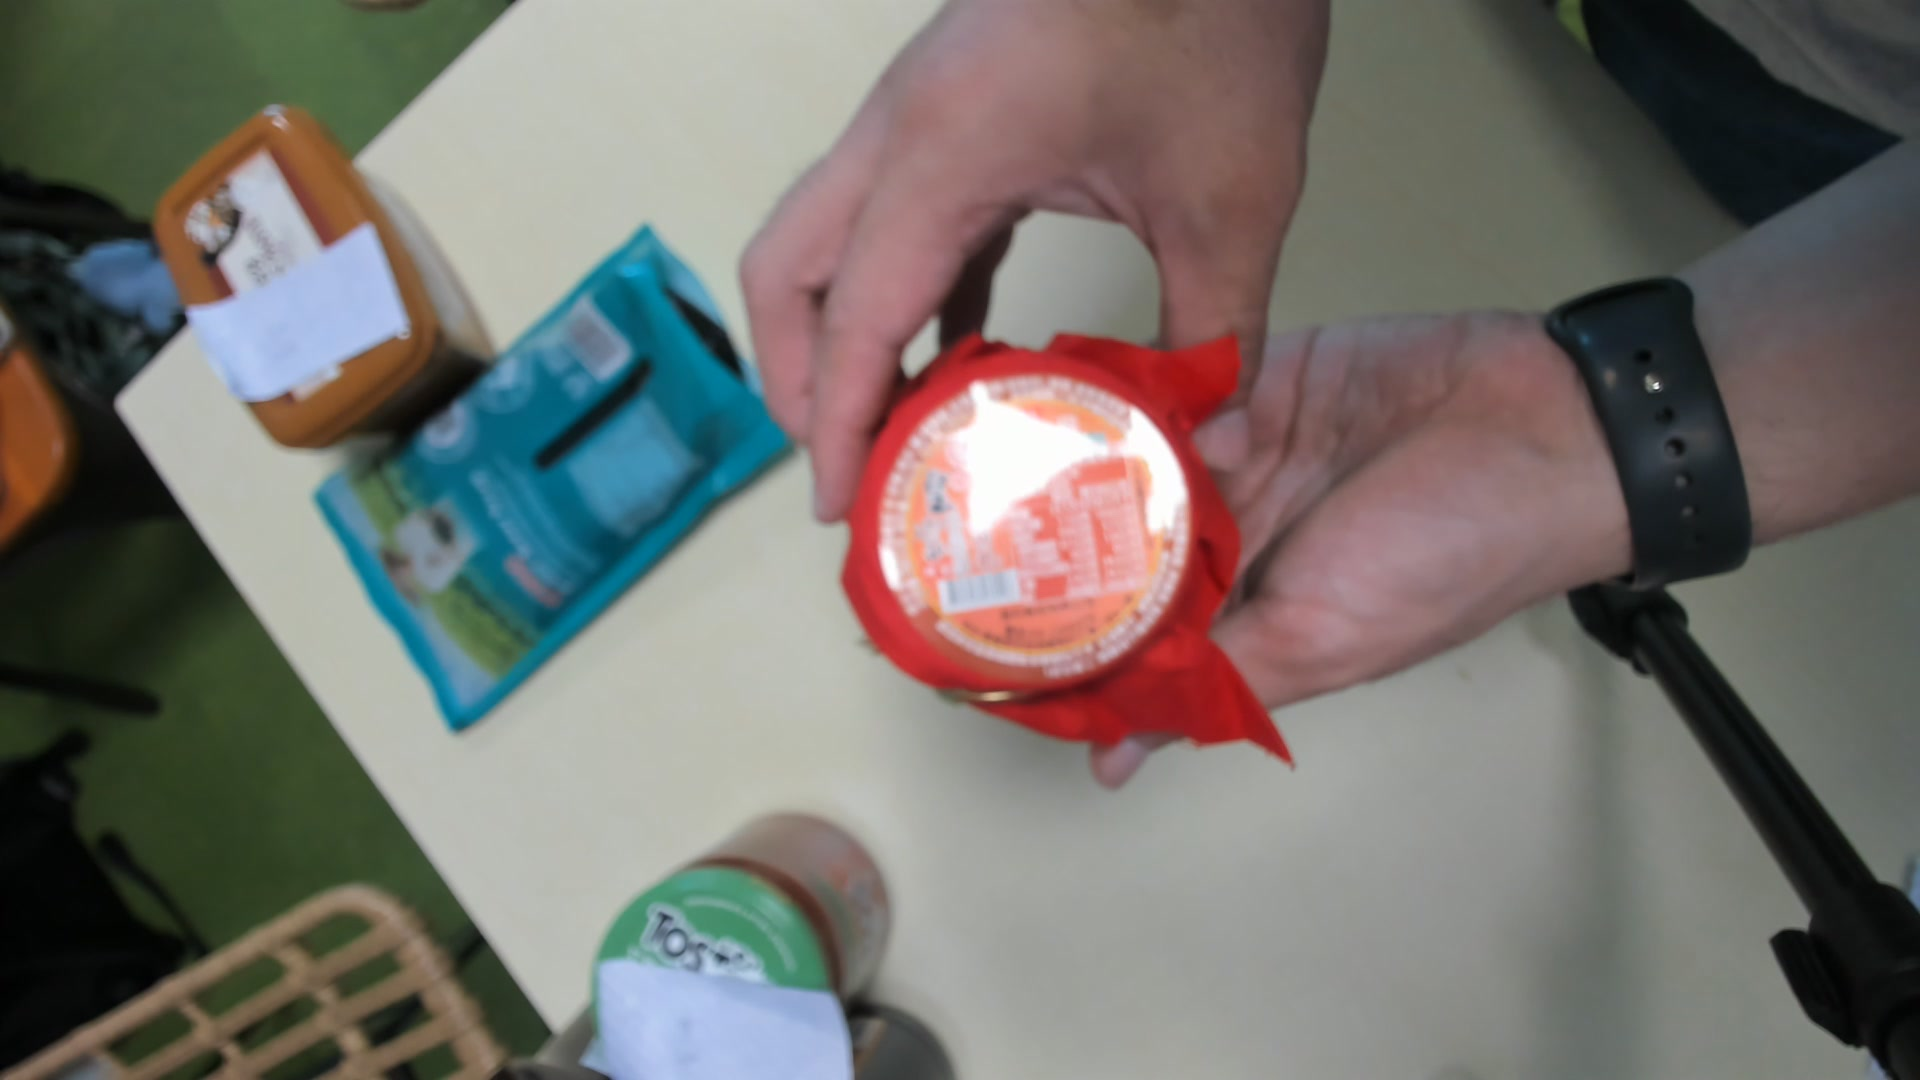OtherSauceDressing_300-399g_NonHalal_NonHealthy: (847, 344, 1287, 757)
